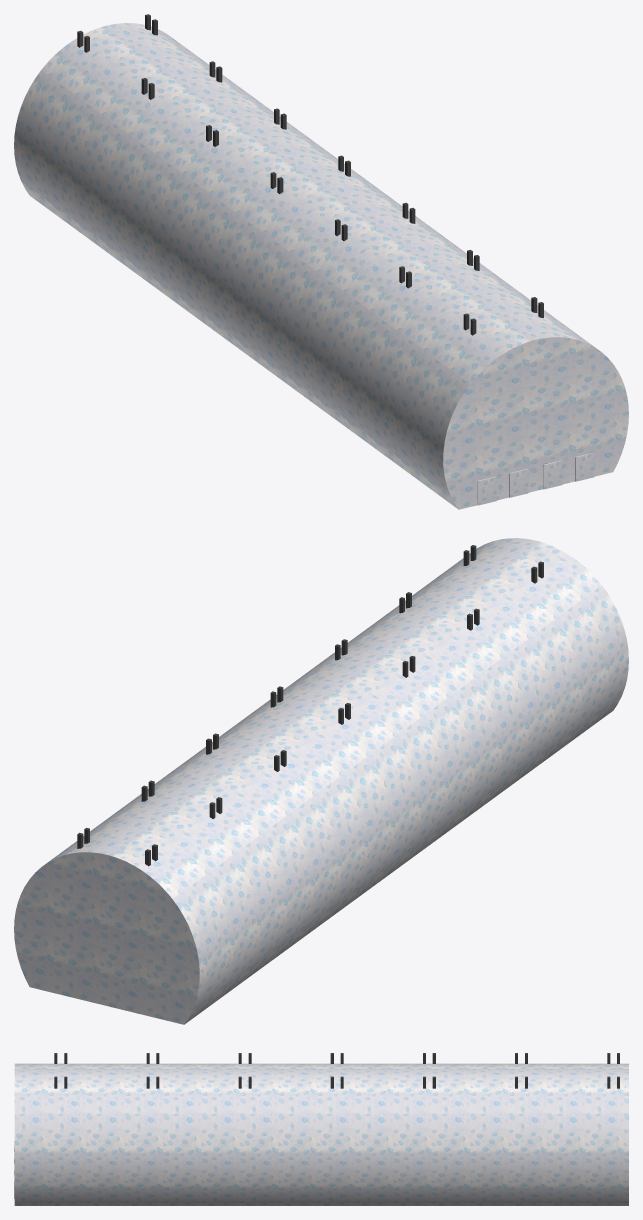
3 views of the same model, one above another, from view 1: azimuth 30°, elevation 25°; view 2: azimuth 150°, elevation 25°; view 3: azimuth 270°, elevation 25° (orthographic). The views are drawn at different scales.
Visible parts, largest first — view 1: Walls_16, Cube_29; view 2: Walls_16, Cube_29; view 3: Walls_16, Cube_29.
Boxes of the visible parts, <box> form: Walls_16: <box>14,23,628,509</box>; Cube_29: <box>77,14,543,335</box>; Walls_16: <box>14,538,628,1024</box>; Cube_29: <box>77,545,543,866</box>; Walls_16: <box>14,1063,628,1205</box>; Cube_29: <box>54,1053,619,1088</box>.
Size of the model in its own units: 20 by 16.41 by 80.1.
